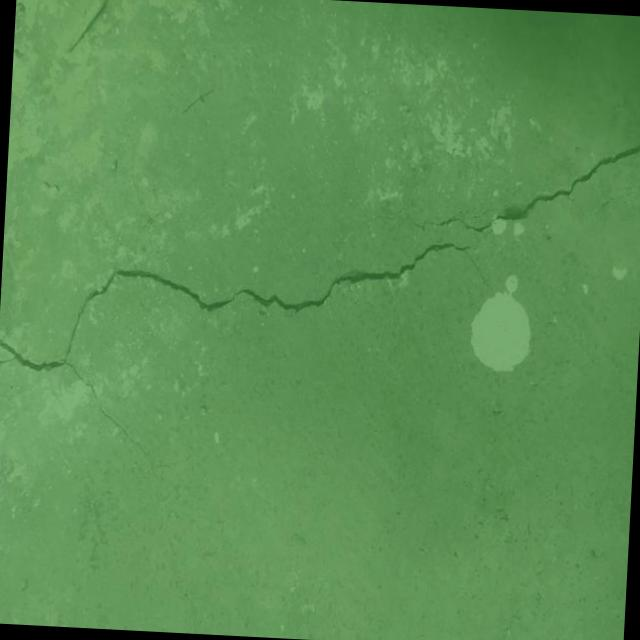crack: (0, 219, 479, 614), (357, 107, 640, 244)
